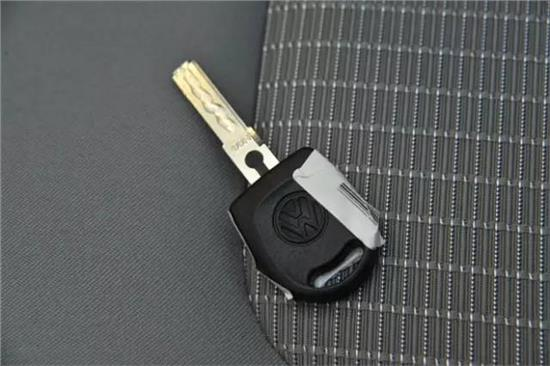key: (166, 53, 386, 309)
